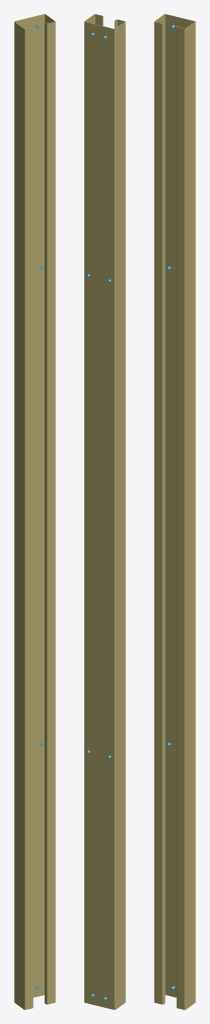
File: ass_57.obj
The picture shows the model from 3 angles, left to right: view 1: azimuth 30°, elevation 25°; view 2: azimuth 150°, elevation 25°; view 3: azimuth 330°, elevation 25°; orthographic projection.
Parts seen in each view (by area): view 1: 57 103511 C+150x2x00 CEE+ S390GD+Z275; view 2: 57 103511 C+150x2x00 CEE+ S390GD+Z275; view 3: 57 103511 C+150x2x00 CEE+ S390GD+Z275.
Part boxes in pixels (x1,y1,x2,y2): 57 103511 C+150x2x00 CEE+ S390GD+Z275: (14, 14, 55, 1009); 57 103511 C+150x2x00 CEE+ S390GD+Z275: (84, 14, 125, 1009); 57 103511 C+150x2x00 CEE+ S390GD+Z275: (154, 14, 195, 1009).
Bounding box in the file's own units: 150 × 4490 × 106.
